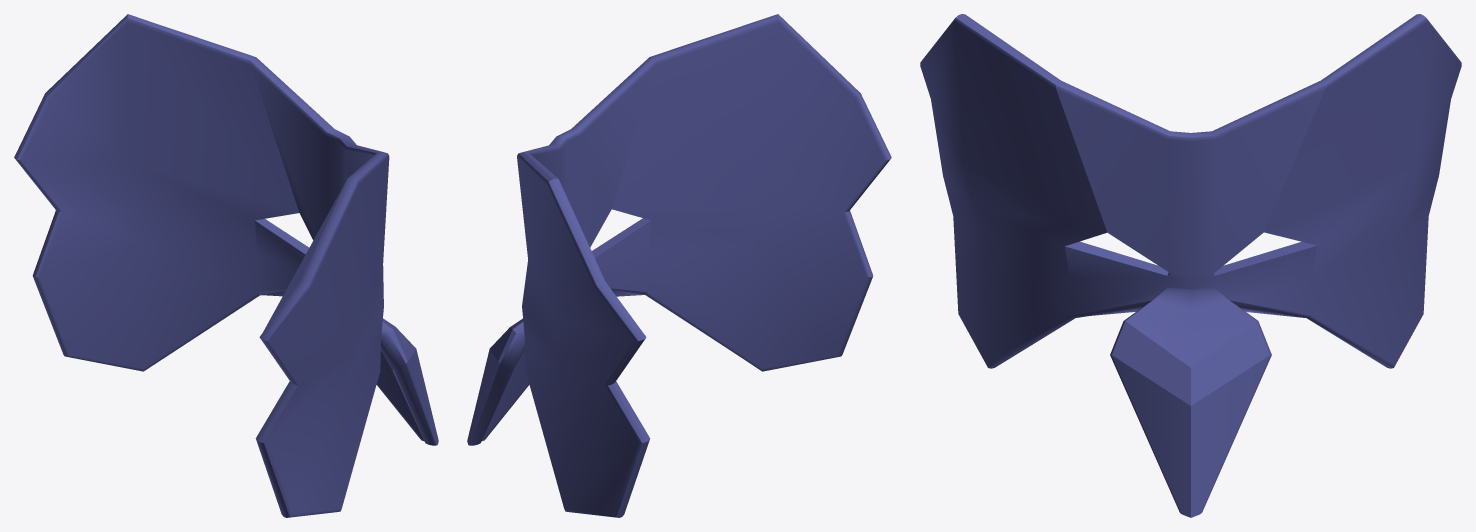
File: mask_oiseau.fbx
3 renders of one model, left to right at view 1: azimuth 30°, elevation 25°; view 2: azimuth 150°, elevation 25°; view 3: azimuth 270°, elevation 25°, orthographic. The views are drawn at different scales.
Parts seen in each view (by area): view 1: mask_oiseau; view 2: mask_oiseau; view 3: mask_oiseau.
Part boxes in pixels (box(x1,y1,x2,y2)): mask_oiseau: box(14, 14, 438, 517); mask_oiseau: box(467, 14, 891, 517); mask_oiseau: box(920, 14, 1461, 517).
Bounding box in the file's own units: 0.5134 × 0.6407 × 0.7785.
